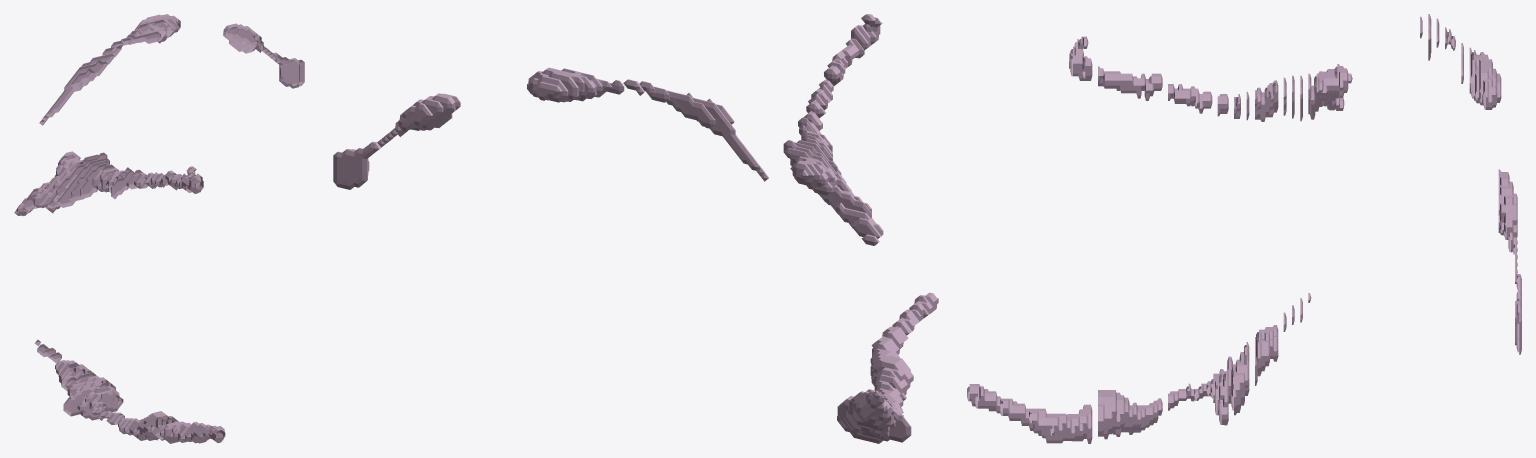
The model's file is SVV_RIPL.gltf.
The picture shows the model from 3 angles, left to right: view 1: azimuth 30°, elevation 25°; view 2: azimuth 150°, elevation 25°; view 3: azimuth 270°, elevation 25°; orthographic projection. The views are drawn at different scales.
Visible parts, largest first — view 1: RIPL; view 2: RIPL; view 3: RIPL.
Boxes of the visible parts, x1,y1,x2,y2 form: RIPL: (14, 14, 304, 443); RIPL: (333, 14, 938, 443); RIPL: (967, 14, 1521, 443).
Bounding box in the file's own units: 56859 × 47637 × 51609.
